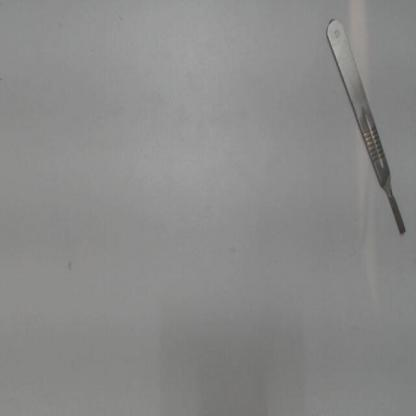No.4 BP Handle: (318, 9, 411, 246)
